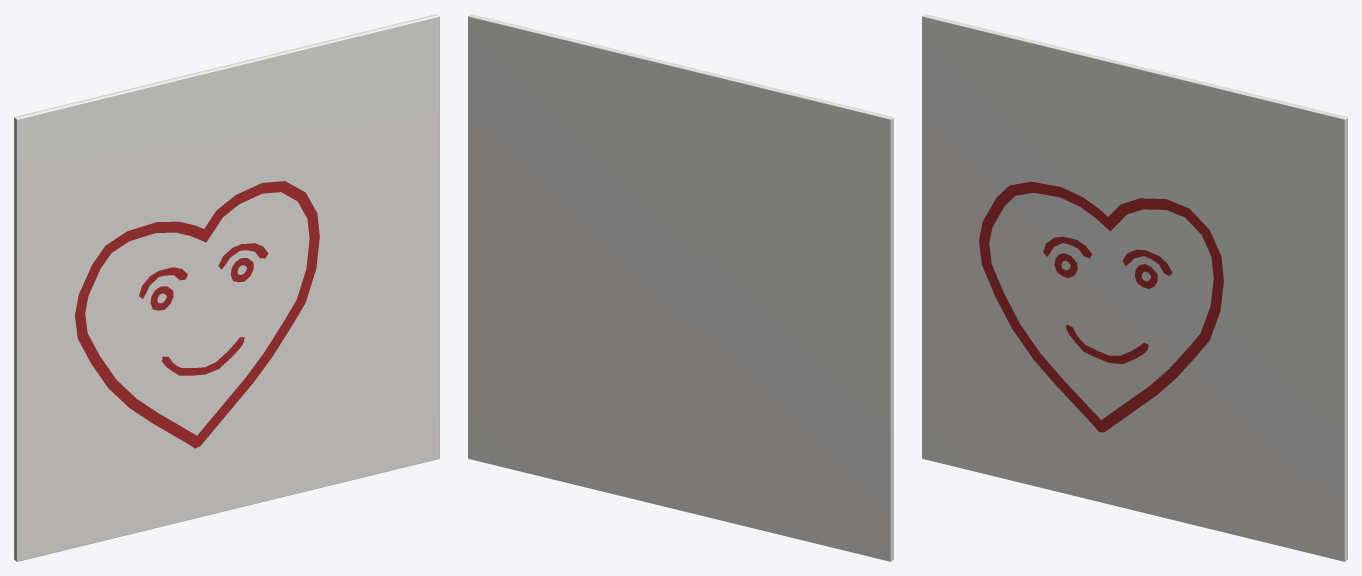
File: Frame_7.glb
3 renders of one model, left to right at view 1: azimuth 30°, elevation 25°; view 2: azimuth 150°, elevation 25°; view 3: azimuth 330°, elevation 25°, orthographic.
Visible parts, largest first — view 1: Childrens_Drawing_2; view 2: Childrens_Drawing_2; view 3: Childrens_Drawing_2.
Boxes of the visible parts, x1,y1,x2,y2 form: Childrens_Drawing_2: (14, 14, 439, 561); Childrens_Drawing_2: (468, 14, 893, 561); Childrens_Drawing_2: (922, 14, 1347, 561).
Bounding box in the file's own units: 0.624 × 0.624 × 0.00926.
Materials: 1 (1 with a texture image).
